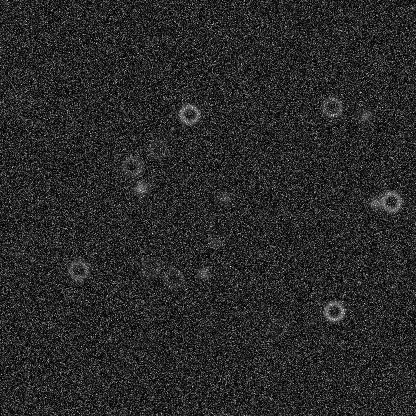Ring: (160, 266, 184, 290), (379, 189, 403, 213), (145, 136, 169, 160), (319, 94, 343, 118), (322, 299, 346, 323), (138, 255, 162, 279), (177, 102, 201, 126), (120, 154, 144, 178), (66, 258, 90, 282), (264, 316, 288, 340)
Spot: (13, 92, 29, 108), (217, 189, 233, 205), (194, 264, 210, 280), (8, 245, 24, 261), (356, 107, 372, 123), (367, 194, 383, 210), (19, 228, 35, 244), (206, 234, 222, 250), (141, 35, 157, 51), (132, 180, 148, 196)
